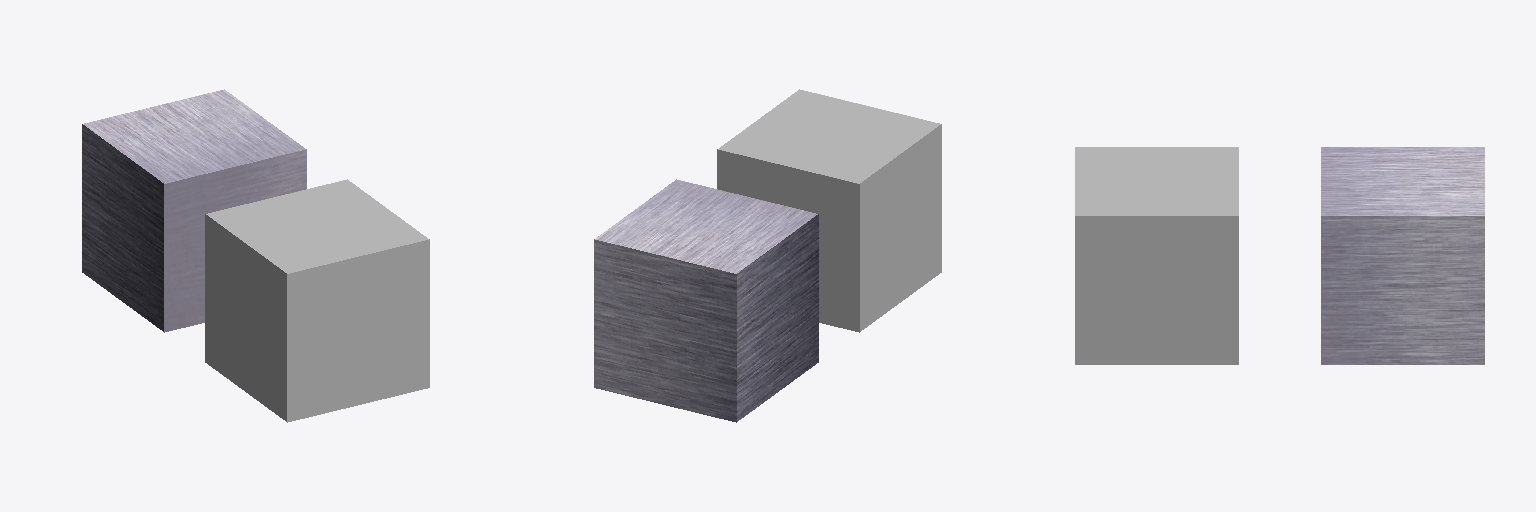
3 views of the same model, side by side, from view 1: azimuth 30°, elevation 25°; view 2: azimuth 150°, elevation 25°; view 3: azimuth 270°, elevation 25° (orthographic).
Parts seen in each view (by area): view 1: Cube, Cube.001; view 2: Cube.001, Cube; view 3: Cube, Cube.001.
Part boxes in pixels (x1,y1,x2,y2): Cube: (205, 179, 429, 422); Cube.001: (82, 89, 306, 332); Cube.001: (594, 179, 818, 422); Cube: (717, 89, 941, 332); Cube: (1075, 147, 1238, 364); Cube.001: (1321, 147, 1484, 364).
Bounding box in the file's own units: 2 × 2 × 5.
2 materials, 1 textured.